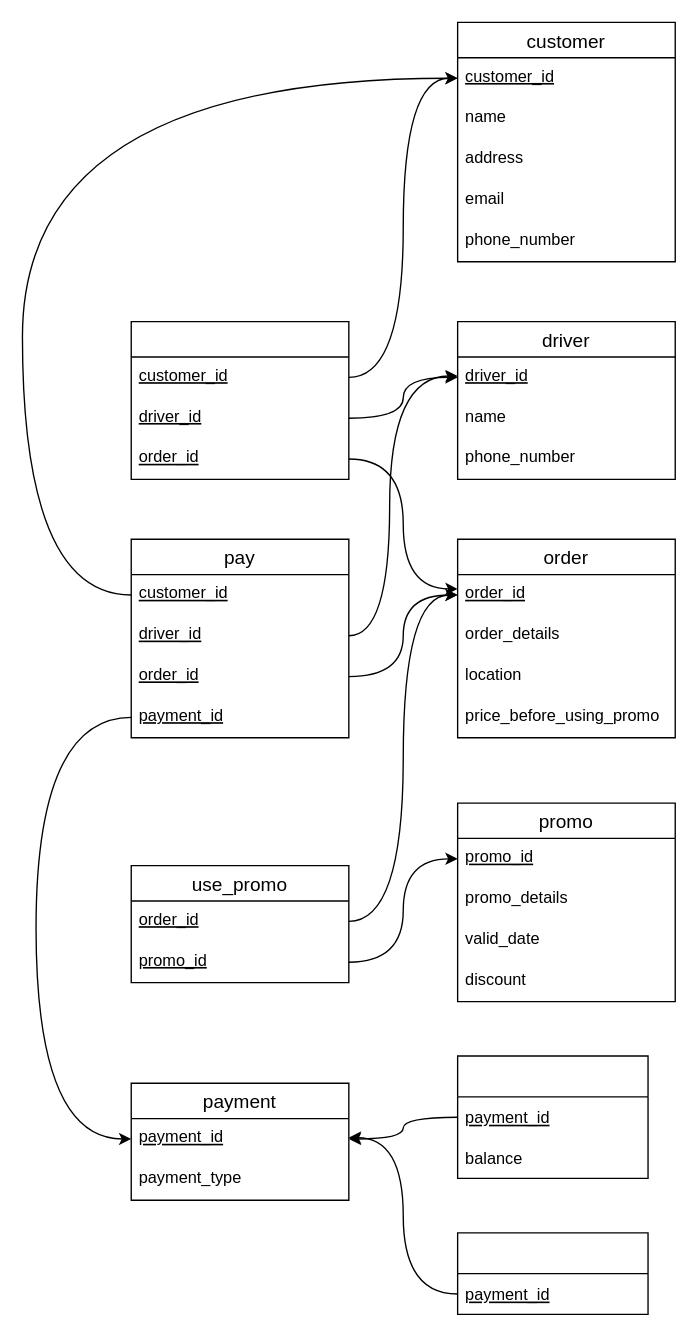
Image size: 698x1337. Some labels were removed from this diagram. The box of each missing label's shape, as (x1, y1, x2, y2) in pixels:
cash: (456, 1231, 648, 1314)
gopay: (456, 1055, 648, 1178)
make_order: (130, 320, 349, 479)
